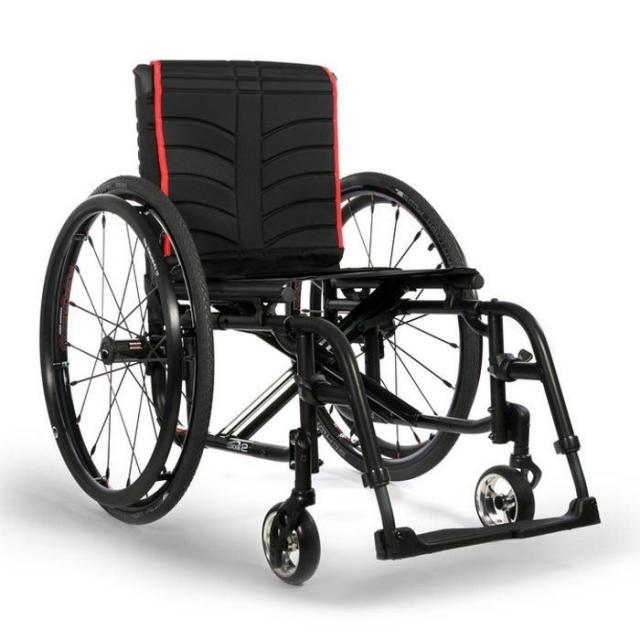wheelchair: (30, 41, 613, 594)
